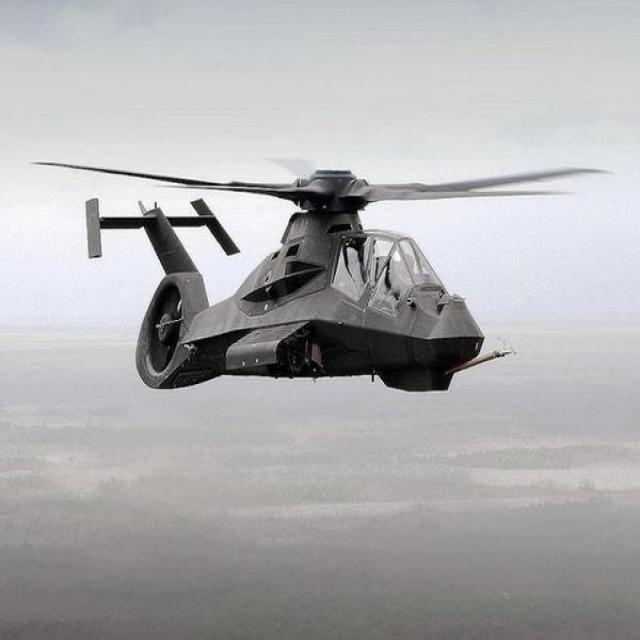MIL_HELO: (31, 140, 596, 408)
